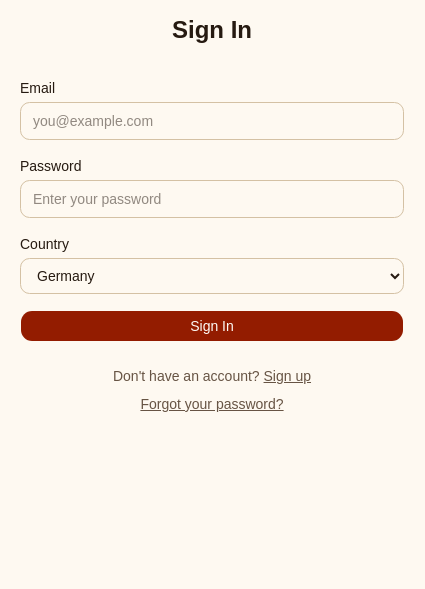
Test case: login return navigation › does not navigate after a failed login
This screenshot has width=425, height=589.
Type "shopper@example.test" into the field labelled "Email" at (212, 121), box [20, 102, 404, 140]
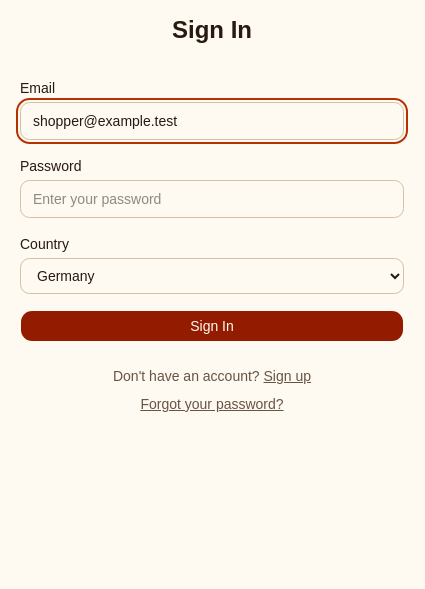
Type "password" into the password field labelled "Password" at (212, 199), box [20, 180, 404, 218]
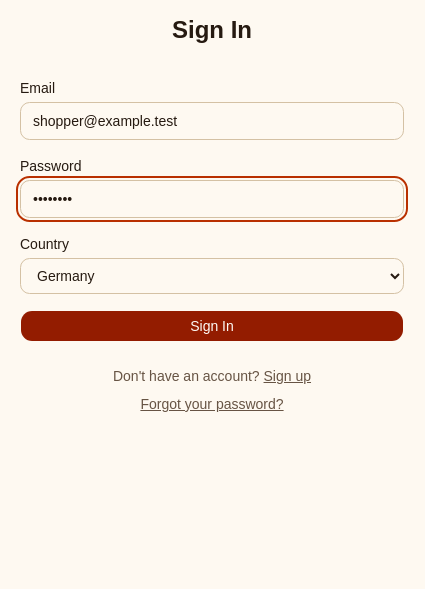
Click the button "Sign In" at (212, 326), box [20, 310, 404, 342]
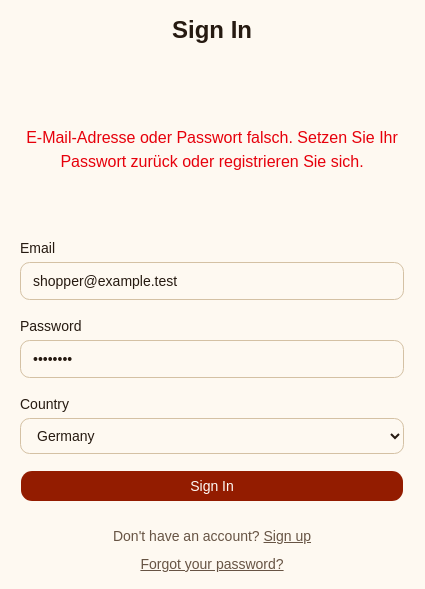
expect the heading "Sign In" is shown: met, box [172, 16, 252, 43]
expect the text "E-Mail-Adresse oder Passwort falsch. Setzen Sie Ihr Passwort zurück oder registrieren Sie sich." is shown: met, box [26, 129, 398, 170]
